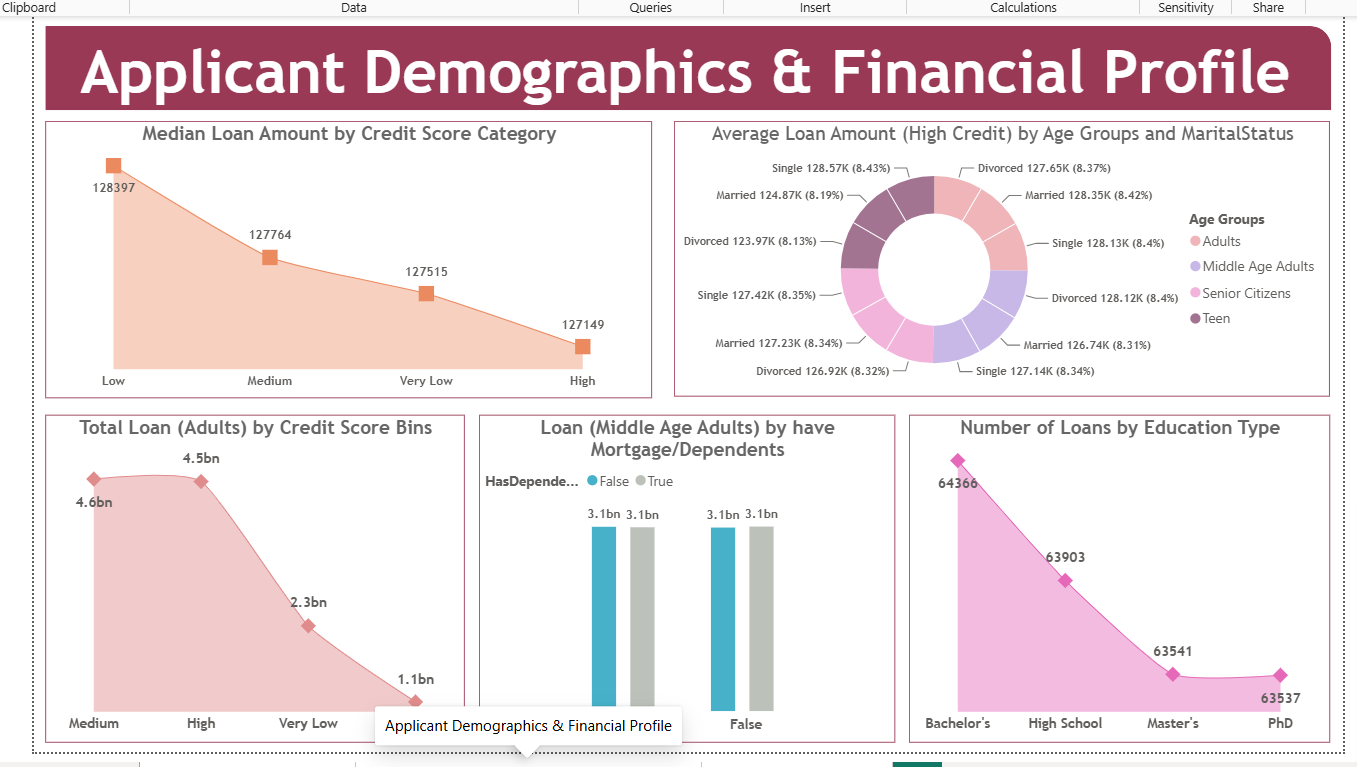

The dashboard page shown, as its layout file describes it:
{"tool":"powerbi","page":{"name":"Applicant Demographics & Financial Profile","canvas":[1280,720],"ordinal":1},"visuals":[{"type":"shape","box":[10.5,9.3,1258.1,82.6],"z":0},{"type":"lineChart","title":"Median Loan Amount by Credit Score Category","fields":{"Y":["Measures Table 2.Median by Credit score bins"],"Category":["Loan_default.Credit Score Bins"]},"box":[11.2,103.3,593.5,271.2],"z":1000},{"type":"donutChart","fields":{"Y":["Measures Table 2.Average Loan Amount (High Credit)"],"Series":["Loan_default.MaritalStatus"],"Category":["Loan_default.Age Groups"]},"box":[625.8,103.3,642,270],"z":2000},{"type":"lineChart","title":"Total Loan (Adults) by Credit Score Bins","fields":{"Category":["Loan_default.Credit Score Bins"],"Y":["Measures Table 2.Total Loans (Credit Bins)"]},"box":[11.2,390.7,410.6,321],"z":3000},{"type":"clusteredColumnChart","title":"Loan (Middle Age Adults) by have Mortgage/Dependents","fields":{"Y":["Measures Table 2.Total Loan (Middle Age Adults)"],"Category":["Loan_default.HasMortgage"],"Series":["Loan_default.HasDependents"]},"box":[435.5,390.7,406.8,321],"z":4000},{"type":"lineChart","title":"Number of Loans by Education Type","fields":{"Y":["Measures Table 2.Loans by Education Type"],"Category":["Loan_default.Education"]},"box":[856,390.7,411.8,321],"z":5000}]}

Visuals, with their boxes on the page's 1280x720 design canvas (x1, y1, x2, y2). These are canvas units, not pixel positions in the 1357x767 screenshot, which may show the page scaled, cropped or inside an application window:
shape: BBox(10, 9, 1269, 92)
"Median Loan Amount by Credit Score Category" lineChart: BBox(11, 103, 605, 374)
donutChart - Measures Table 2.Average Loan Amount (High Credit) x Loan_default.MaritalStatus: BBox(626, 103, 1268, 373)
"Total Loan (Adults) by Credit Score Bins" lineChart: BBox(11, 391, 422, 712)
"Loan (Middle Age Adults) by have Mortgage/Dependents" clusteredColumnChart: BBox(436, 391, 842, 712)
"Number of Loans by Education Type" lineChart: BBox(856, 391, 1268, 712)
